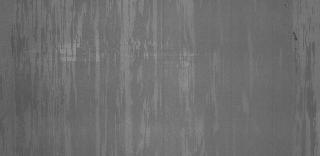inclusion: (294, 28, 302, 72)
water spot: (15, 1, 146, 151), (157, 6, 231, 132), (300, 4, 320, 156)
